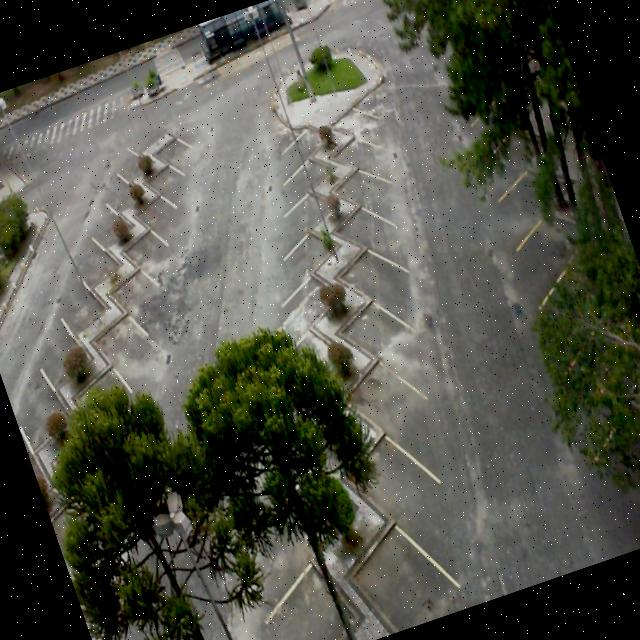empty: (332, 483, 453, 637), (338, 412, 458, 554), (234, 530, 369, 640), (333, 338, 438, 466), (332, 277, 425, 383), (321, 225, 408, 318), (13, 285, 92, 384), (0, 343, 72, 447), (256, 255, 342, 340), (80, 291, 154, 384), (37, 244, 110, 336), (324, 178, 404, 261), (98, 244, 164, 327), (266, 202, 340, 274), (322, 140, 393, 212), (257, 170, 332, 238), (108, 204, 172, 282), (60, 214, 124, 290), (324, 110, 390, 174), (271, 133, 338, 194), (126, 172, 184, 239), (76, 179, 132, 248), (327, 85, 390, 146), (131, 136, 189, 202), (90, 150, 146, 217), (100, 120, 156, 187), (264, 104, 327, 160), (144, 112, 195, 175)
